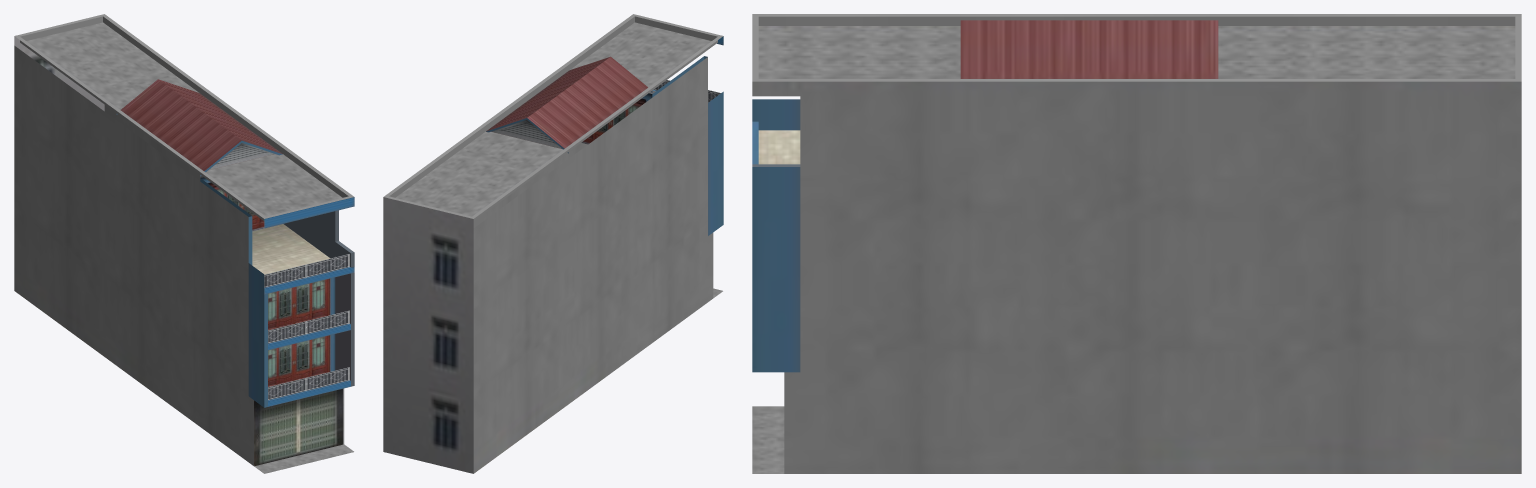
3 views of the same model, side by side, from view 1: azimuth 30°, elevation 25°; view 2: azimuth 150°, elevation 25°; view 3: azimuth 270°, elevation 25° (orthographic). The views are drawn at different scales.
Visible parts, largest first — view 1: 5cd921e93520bb46ec39396b.001; view 2: 5cd921e93520bb46ec39396b.001; view 3: 5cd921e93520bb46ec39396b.001.
Part boxes in pixels (x1,y1,x2,y2): 5cd921e93520bb46ec39396b.001: (14, 14, 354, 473); 5cd921e93520bb46ec39396b.001: (383, 14, 723, 473); 5cd921e93520bb46ec39396b.001: (752, 14, 1521, 473).
Bounding box in the file's own units: 5 × 14.45 × 24.
1 material, 1 textured.
